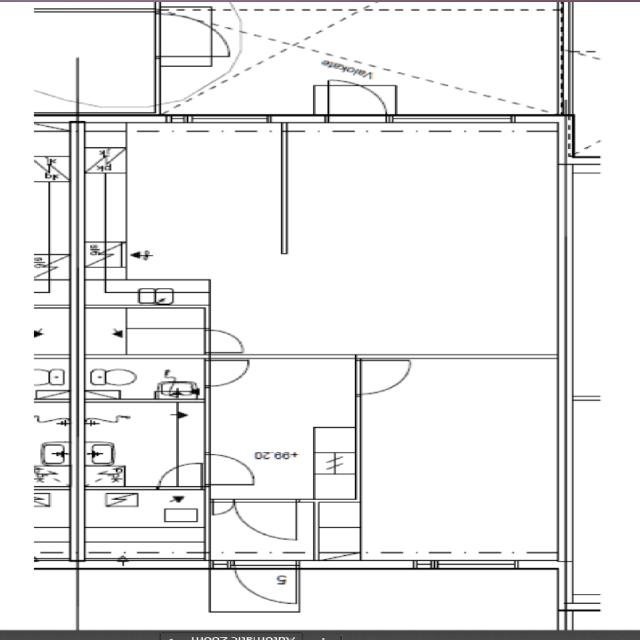door: (154, 8, 221, 64), (225, 497, 302, 545), (225, 561, 301, 608), (315, 78, 392, 120), (354, 358, 413, 396), (203, 451, 259, 486), (203, 357, 252, 388), (155, 462, 205, 489), (201, 327, 248, 354)
window: (429, 558, 525, 572), (182, 112, 272, 125)
zone: (326, 355, 568, 563), (82, 128, 289, 288), (203, 354, 359, 499), (80, 398, 206, 488), (80, 488, 208, 566), (26, 358, 75, 487), (85, 306, 209, 356), (84, 357, 209, 400)
